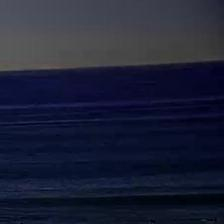surfer: (149, 219, 157, 223), (212, 217, 217, 222)
